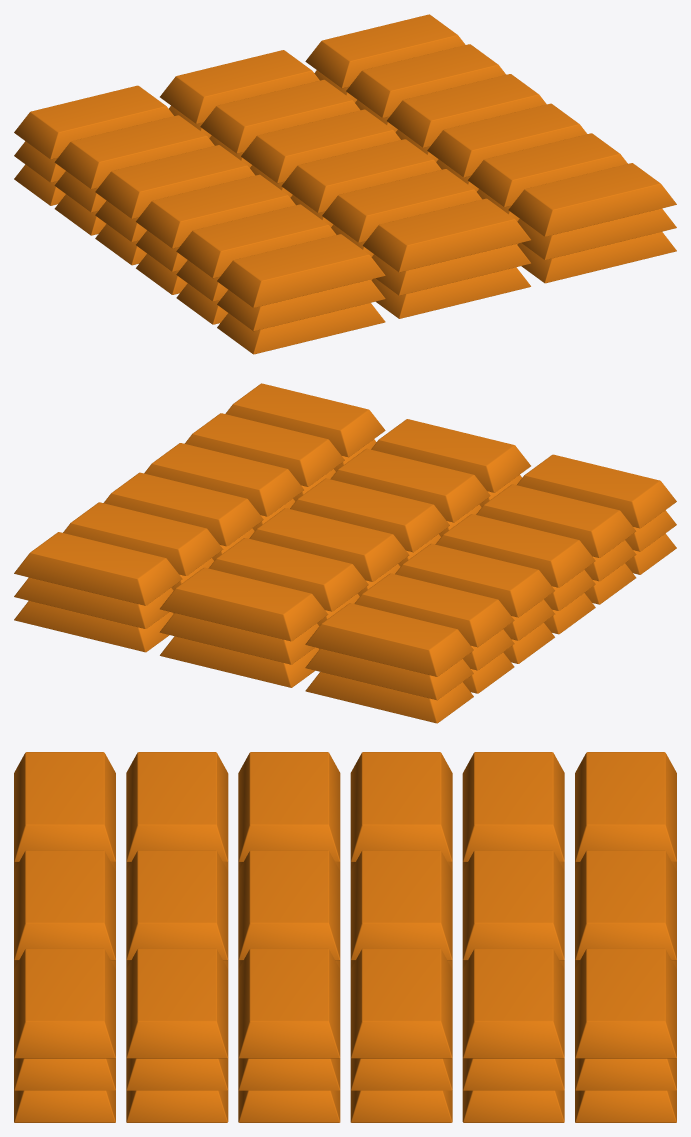
Rendered from gold1.fbx.
3 views of the same model, one above another, from view 1: azimuth 30°, elevation 25°; view 2: azimuth 150°, elevation 25°; view 3: azimuth 270°, elevation 25° (orthographic). The views are drawn at different scales.
Visible parts, largest first — view 1: Cube.039, Cube.003, Cube.021, Cube.009, Cube.045, Cube.006, Cube.018, Cube.012, Cube.015, Cube.042, Cube.051, Cube (+22 smaller); view 2: Cube, Cube.018, Cube.036, Cube.012, Cube.048, Cube.015, Cube.003, Cube.006, Cube.009, Cube.042, Cube.051, Cube.021 (+22 smaller); view 3: Cube.045, Cube.048, Cube.042, Cube.051, Cube, Cube.039, Cube.027, Cube.030, Cube.024, Cube.033, Cube.006, Cube.009 (+18 smaller).
Boxes of the visible parts, x1,y1,x2,y2 form: Cube.039: (508, 163, 676, 236); Cube.003: (217, 234, 385, 307); Cube.021: (362, 198, 530, 272); Cube.009: (136, 174, 295, 248); Cube.045: (427, 103, 587, 177); Cube.006: (176, 204, 336, 278); Cube.018: (14, 85, 173, 159); Cube.012: (95, 145, 255, 218); Cube.015: (54, 115, 214, 188); Cube.042: (467, 133, 627, 206); Cube.051: (346, 44, 505, 117); Cube: (305, 14, 465, 88); Cube: (14, 532, 182, 605); Cube.018: (305, 603, 473, 676); Cube.036: (160, 567, 328, 641); Cube.012: (395, 543, 554, 617); Cube.048: (103, 472, 263, 546); Cube.015: (354, 573, 514, 647); Cube.003: (517, 454, 676, 528); Cube.006: (476, 484, 636, 557); Cube.009: (435, 514, 595, 587); Cube.042: (185, 413, 344, 486); Cube.051: (63, 502, 223, 575); Cube.021: (371, 419, 530, 492); Cube.045: (238, 948, 340, 1058); Cube.048: (350, 948, 452, 1058); Cube.042: (126, 948, 228, 1058); Cube.051: (462, 948, 564, 1058); Cube: (575, 948, 676, 1058); Cube.039: (14, 948, 115, 1058); Cube.027: (238, 850, 340, 960); Cube.030: (350, 850, 452, 960); Cube.024: (126, 850, 228, 960); Cube.033: (462, 850, 564, 960); Cube.006: (126, 752, 228, 861); Cube.009: (238, 752, 340, 861).
Size of the model in its own units: 510 by 77.77 by 500.
